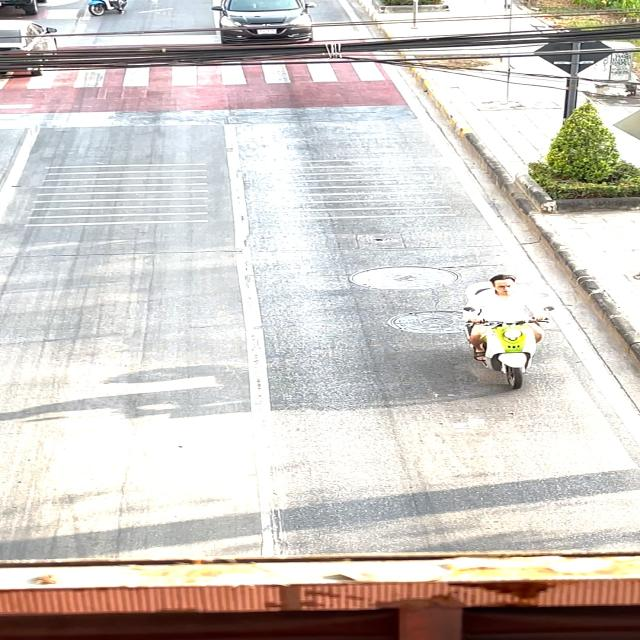car: (198, 0, 347, 50)
